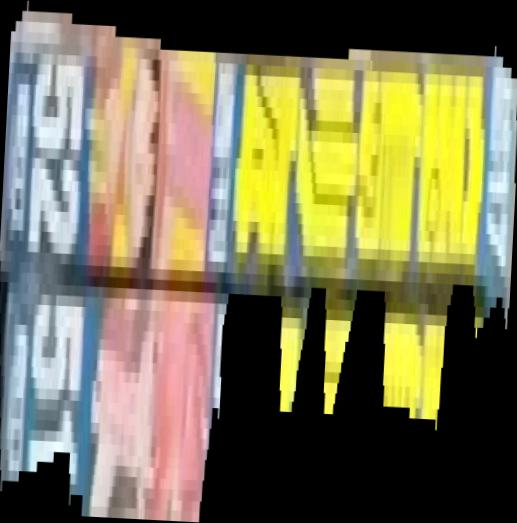flat: (1, 1, 517, 523)
